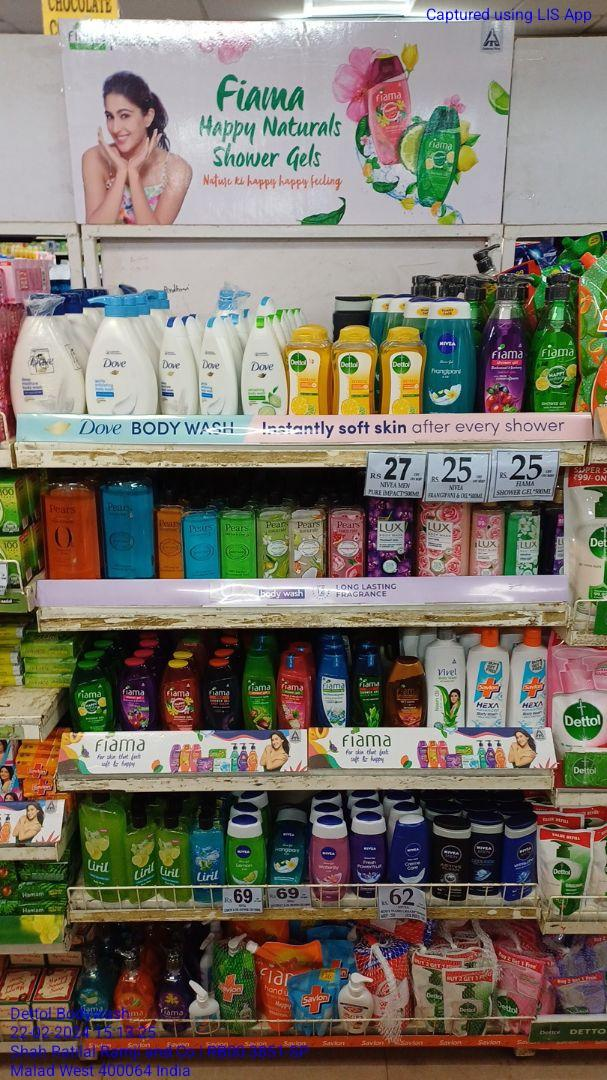Dove_Deep_Moisture_Body_Wash_250ML: (157, 316, 197, 414)
Dove_Gentle_Exfoliating_Body_Wash_250ML: (200, 318, 240, 413)
Dove_Refreshing_Body_Wash_250ML: (241, 314, 287, 416), (330, 324, 377, 415), (379, 331, 424, 414), (291, 330, 328, 415)
Fiama_Shower_Gel_Lemongrass_and_Jojoba_250ML: (242, 651, 275, 728)
Fiama_Shower_Gel_Patchouli_and_Macadamia_250ML: (278, 651, 309, 729)
Liril_Cooling_Mint_Body_Wash_250ML: (193, 809, 222, 901)
Liril_Lime_and_Tea_Tree_Oil_Body_Wash_250ML: (125, 809, 156, 902), (161, 811, 190, 902)
Lux_Body_Wash_Skin_Detox_Freesia_Scent_and_Alove_Vera_245ML: (506, 498, 540, 575)
Nivea_Creme_Care_Body_Wash_250ML: (388, 814, 429, 884)
Nivea_Shower_Gel_Frangipani_and_Oil_250ML: (429, 299, 477, 411)
Nivea_Shower_Gel_Fresh_Powerfruit_250ML: (352, 813, 386, 884)
Nivea_Shower_Gel_Lemon_and_Oil_250ML: (227, 819, 265, 888)
Nivea_Shower_Gel_Waterlily_and_Oil_250ML: (314, 816, 349, 899)
Pears_Naturale_Aloe_Vera_Body_Wash_250ML: (259, 494, 289, 577)
Pears_Pure_Glycerin_and_Lemon_Flower_Extracts_Body_Wash_250ML: (219, 494, 255, 578)
Pears_Pure_Glycerin_and_Mint_Extracts_Body_Wash_250ML: (184, 496, 217, 578)
